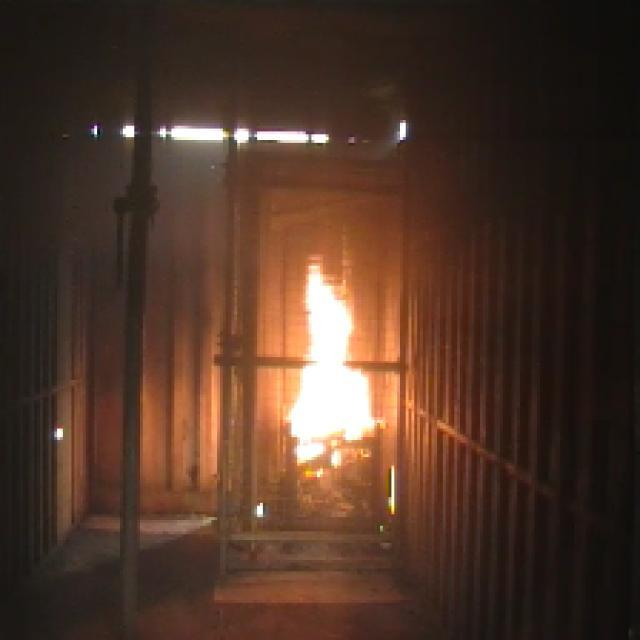Fire: (290, 264, 370, 446)
